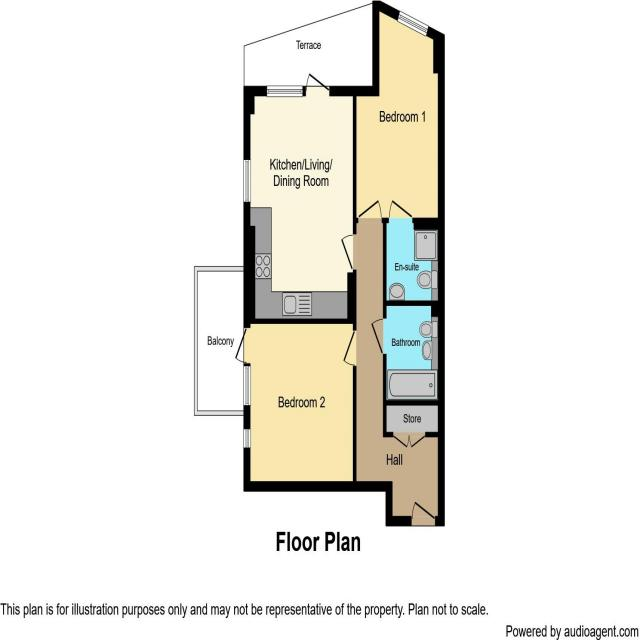DOOR: (409, 498, 437, 527), (338, 230, 357, 272), (340, 326, 357, 369), (356, 198, 384, 222), (388, 197, 414, 222)
ROOM: (242, 71, 357, 329), (233, 317, 357, 493), (352, 0, 445, 221)
WINDOW: (396, 10, 431, 38), (265, 85, 305, 98), (242, 157, 252, 203), (243, 362, 252, 408), (243, 424, 252, 451)
